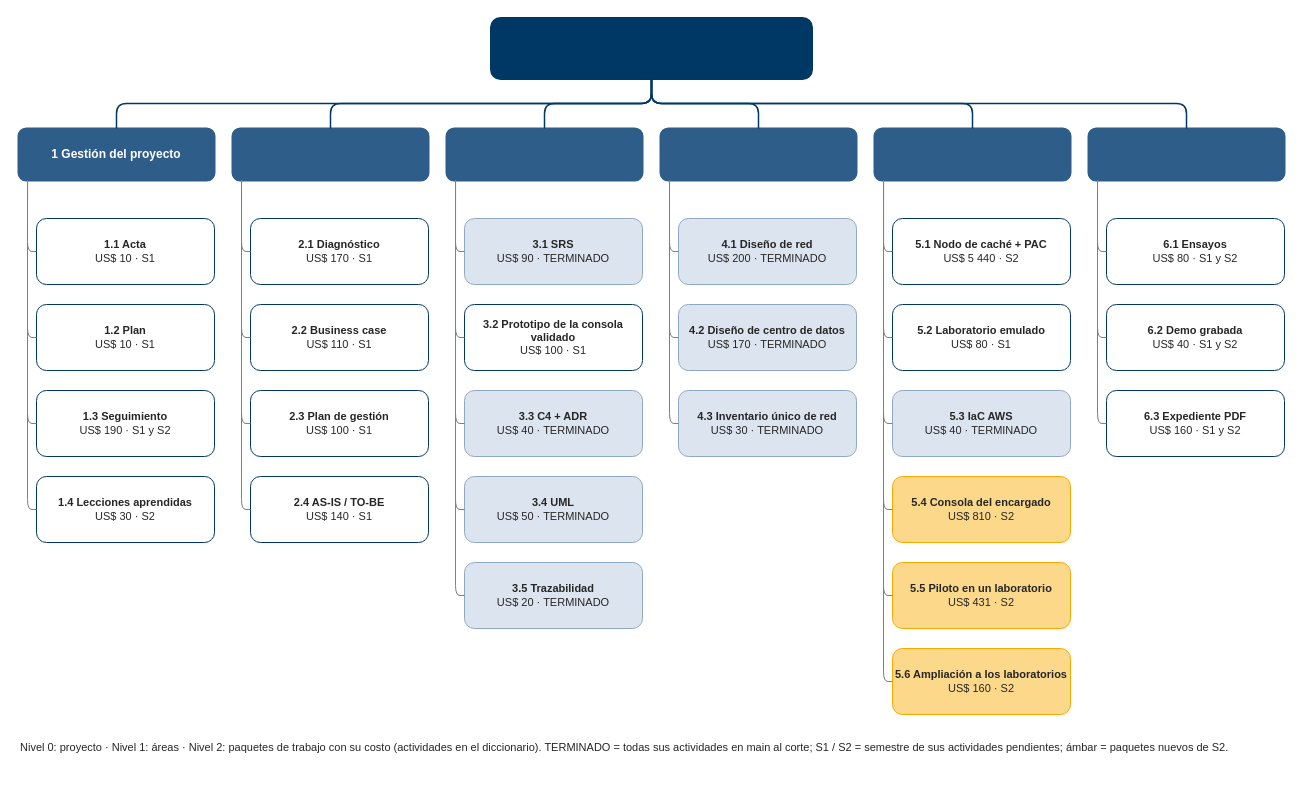
The diagram is 1302 pixels wide and 788 high, and some of its shapes have lost their labels. Each missing label, with the centre of its shape:
"0 Celeris Edge EPE Línea base US$ 9 571" belongs at point (651, 48).
"2 Gestión de TI" belongs at point (330, 154).
"3 Ingeniería de software" belongs at point (544, 154).
"4 Infraestructura" belongs at point (758, 154).
"5 Prueba de concepto" belongs at point (972, 154).
"6 Cierre y sustentación" belongs at point (1186, 154).
